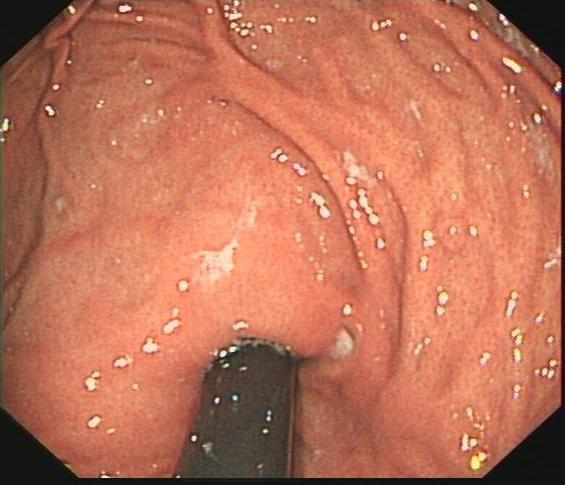Polyp: (430, 199, 480, 253)
